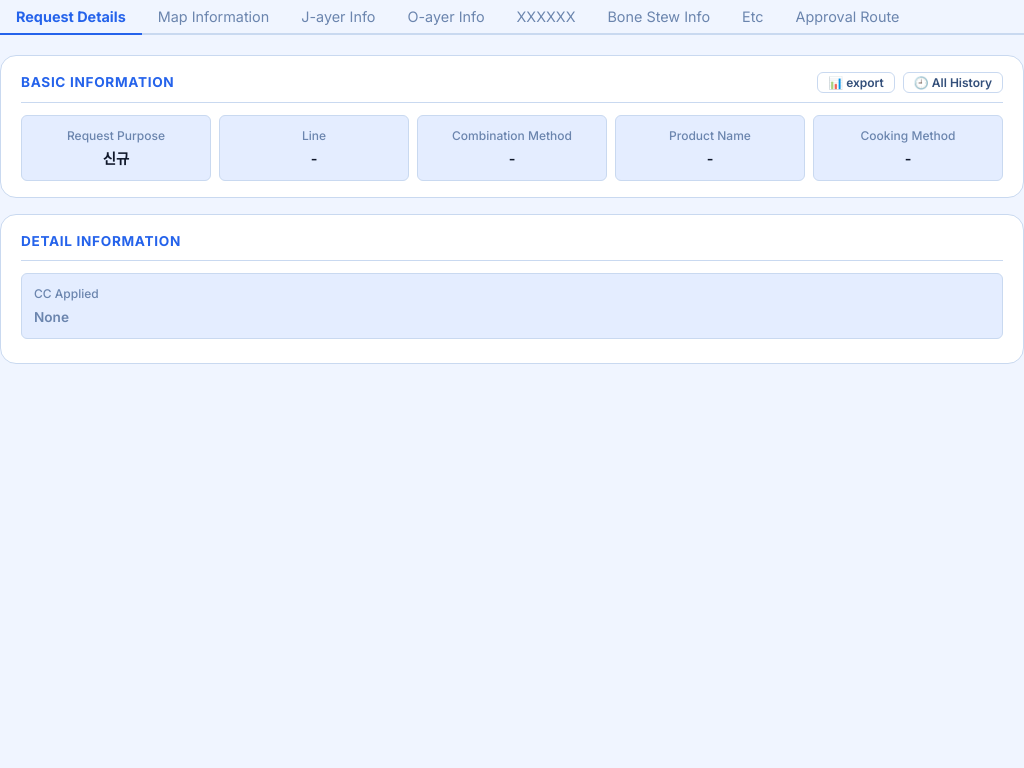
Test case: 결재 경로 탭 — SA 행 미지정 사유 › 합의자가 없는 회차에는 그 회차의 사유를 보여주고, 사유가 없는 회차는 해당없음만 보인다
Step 1. Click the button "Approval Route" → [847, 18], box [780, 0, 915, 35]
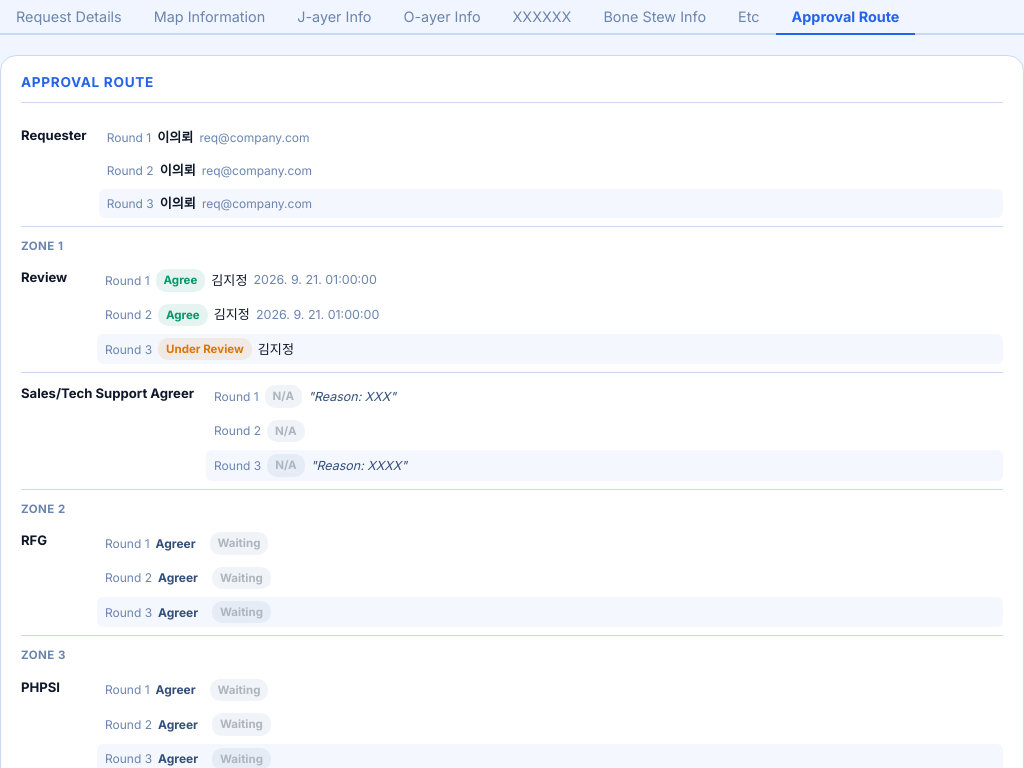
Result: the text "N/A" is shown 3 times at [265, 385, 302, 408]; [267, 420, 305, 442]; [267, 454, 305, 477]
Result: the text "\"Reason: XXX\"" is shown 2 times at [308, 387, 396, 407]; [311, 456, 407, 476]
